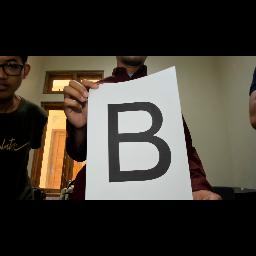b: (102, 98, 186, 188)
